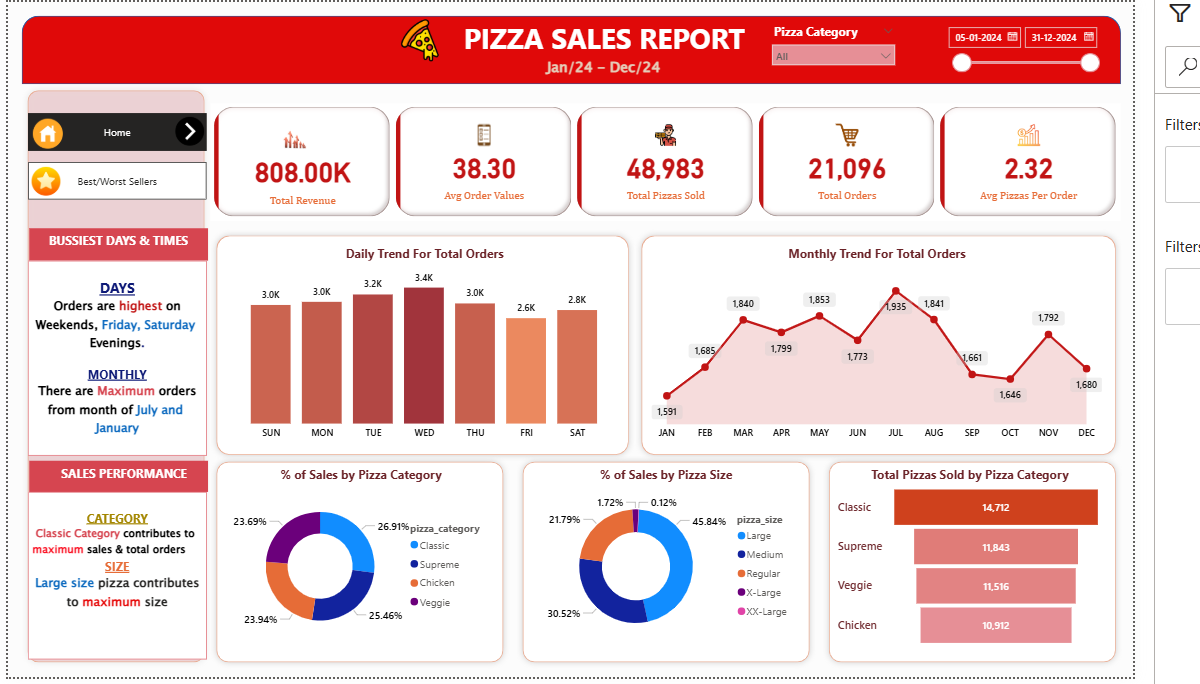

This screenshot's page, from the dashboard's own definition file:
{"tool":"powerbi","page":{"name":"Home","canvas":[1500,900],"ordinal":0},"visuals":[{"type":"cardVisual","fields":{"Data":["pizza_sales.Total Revenue","pizza_sales.Avg Order Values","pizza_sales.Total Pizzas Sold","pizza_sales.Total Orders","pizza_sales.Avg Pizzas Per Order"]},"box":[270.7,134.5,1213.8,156.9],"z":0},{"type":"shape","box":[19,19,1465.5,91.4],"z":1000},{"type":"textbox","box":[589.7,19,410.3,65.5],"z":2000},{"type":"textbox","box":[694.8,69,198.3,41.4],"z":3000},{"type":"image","box":[508.6,19,81,65.5],"z":4000},{"type":"shape","box":[270.7,303.4,565.5,308.6],"z":5000},{"type":"columnChart","title":"Daily Trend For Total Orders","fields":{"Category":["pizza_sales.Order Day"],"Y":["pizza_sales.Total Orders"]},"box":[291.4,324.1,527.6,269],"z":6000},{"type":"shape","box":[836.2,303.4,648.3,308.6],"z":7000},{"type":"areaChart","title":"Monthly Trend For Total Orders","fields":{"Y":["pizza_sales.Total Orders"],"Category":["pizza_sales.Order Month"]},"box":[853.4,324.1,610.3,269],"z":8000},{"type":"shape","box":[270,605,398.3,283.3],"z":9000},{"type":"shape","box":[678.3,605,398.3,283.3],"z":10000},{"type":"shape","box":[1086.7,605,398.3,283.3],"z":11000},{"type":"donutChart","title":"% of Sales by Pizza Category","fields":{"Category":["pizza_sales.pizza_category"],"Y":["pizza_sales.Total Revenue"]},"box":[291.7,618.3,358.3,246.7],"z":12000},{"type":"donutChart","title":"% of Sales by Pizza Size","fields":{"Y":["pizza_sales.Total Revenue"],"Category":["pizza_sales.pizza_size"]},"box":[698.3,618.3,358.3,246.7],"z":13000},{"type":"funnel","title":"Total Pizzas Sold by Pizza Category","fields":{"Category":["pizza_sales.pizza_category"],"Y":["pizza_sales.Total Pizzas Sold"]},"box":[1101.7,618.3,361.7,246.7],"z":14000},{"type":"shape","box":[18.3,110,251.7,778.3],"z":15000},{"type":"textbox","box":[28.3,301.7,238.3,43.3],"z":16000},{"type":"textbox","box":[26.7,345,238.3,260],"z":17000},{"type":"textbox","box":[28.3,611.7,238.3,41.7],"z":18000},{"type":"textbox","box":[26.7,653.3,238.3,223.3],"z":19000},{"type":"slicer","fields":{"Values":["pizza_sales.pizza_category"]},"box":[1008.6,24.1,184.5,87.9],"z":20000},{"type":"slicer","fields":{"Values":["pizza_sales.order_date"]},"box":[1241.4,24.1,222.4,87.9],"z":21000},{"type":"pageNavigator","box":[26.7,148.3,238.3,50],"z":22000},{"type":"pageNavigator","box":[26.7,213.3,238.3,50],"z":23000},{"type":"image","box":[218.3,148.3,48.3,48.3],"z":24000},{"type":"image","box":[28.3,148.3,50,55],"z":25000},{"type":"image","box":[26.7,215,48.3,48.3],"z":26000}]}

Visuals, with their boxes on the page's 1500x900 design canvas (x1, y1, x2, y2). These are canvas units, not pixel positions in the 1200x684 screenshot, which may show the page scaled, cropped or inside an application window:
cardVisual - pizza_sales.Total Revenue x pizza_sales.Avg Order Values: select_region(271, 134, 1484, 291)
shape: select_region(19, 19, 1484, 110)
textbox: select_region(590, 19, 1000, 84)
textbox: select_region(695, 69, 893, 110)
image: select_region(509, 19, 590, 84)
shape: select_region(271, 303, 836, 612)
"Daily Trend For Total Orders" columnChart: select_region(291, 324, 819, 593)
shape: select_region(836, 303, 1484, 612)
"Monthly Trend For Total Orders" areaChart: select_region(853, 324, 1464, 593)
shape: select_region(270, 605, 668, 888)
shape: select_region(678, 605, 1077, 888)
shape: select_region(1087, 605, 1485, 888)
"% of Sales by Pizza Category" donutChart: select_region(292, 618, 650, 865)
"% of Sales by Pizza Size" donutChart: select_region(698, 618, 1057, 865)
"Total Pizzas Sold by Pizza Category" funnel: select_region(1102, 618, 1463, 865)
shape: select_region(18, 110, 270, 888)
textbox: select_region(28, 302, 267, 345)
textbox: select_region(27, 345, 265, 605)
textbox: select_region(28, 612, 267, 653)
textbox: select_region(27, 653, 265, 877)
slicer - pizza_sales.pizza_category: select_region(1009, 24, 1193, 112)
slicer - pizza_sales.order_date: select_region(1241, 24, 1464, 112)
pageNavigator: select_region(27, 148, 265, 198)
pageNavigator: select_region(27, 213, 265, 263)
image: select_region(218, 148, 267, 197)
image: select_region(28, 148, 78, 203)
image: select_region(27, 215, 75, 263)
